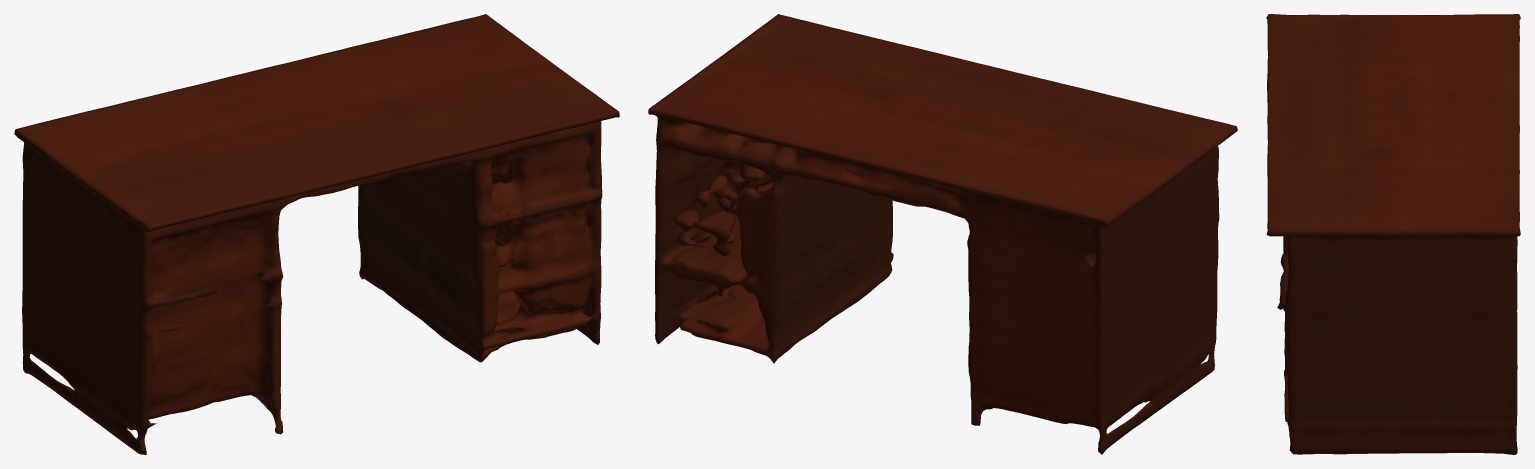
Rendered from This wooden office desk has a bare back, a small r.glb.
The picture shows the model from 3 angles, left to right: view 1: azimuth 30°, elevation 25°; view 2: azimuth 150°, elevation 25°; view 3: azimuth 270°, elevation 25°; orthographic projection. The views are drawn at different scales.
Parts seen in each view (by area): view 1: This wooden office desk has a bare back, a small r; view 2: This wooden office desk has a bare back, a small r; view 3: This wooden office desk has a bare back, a small r.
Boxes of the visible parts, x1,y1,x2,y2 form: This wooden office desk has a bare back, a small r: (14, 14, 619, 454); This wooden office desk has a bare back, a small r: (648, 14, 1237, 454); This wooden office desk has a bare back, a small r: (1266, 14, 1520, 454).
Bounding box in the file's own units: 1.98 × 0.9908 × 0.98.
